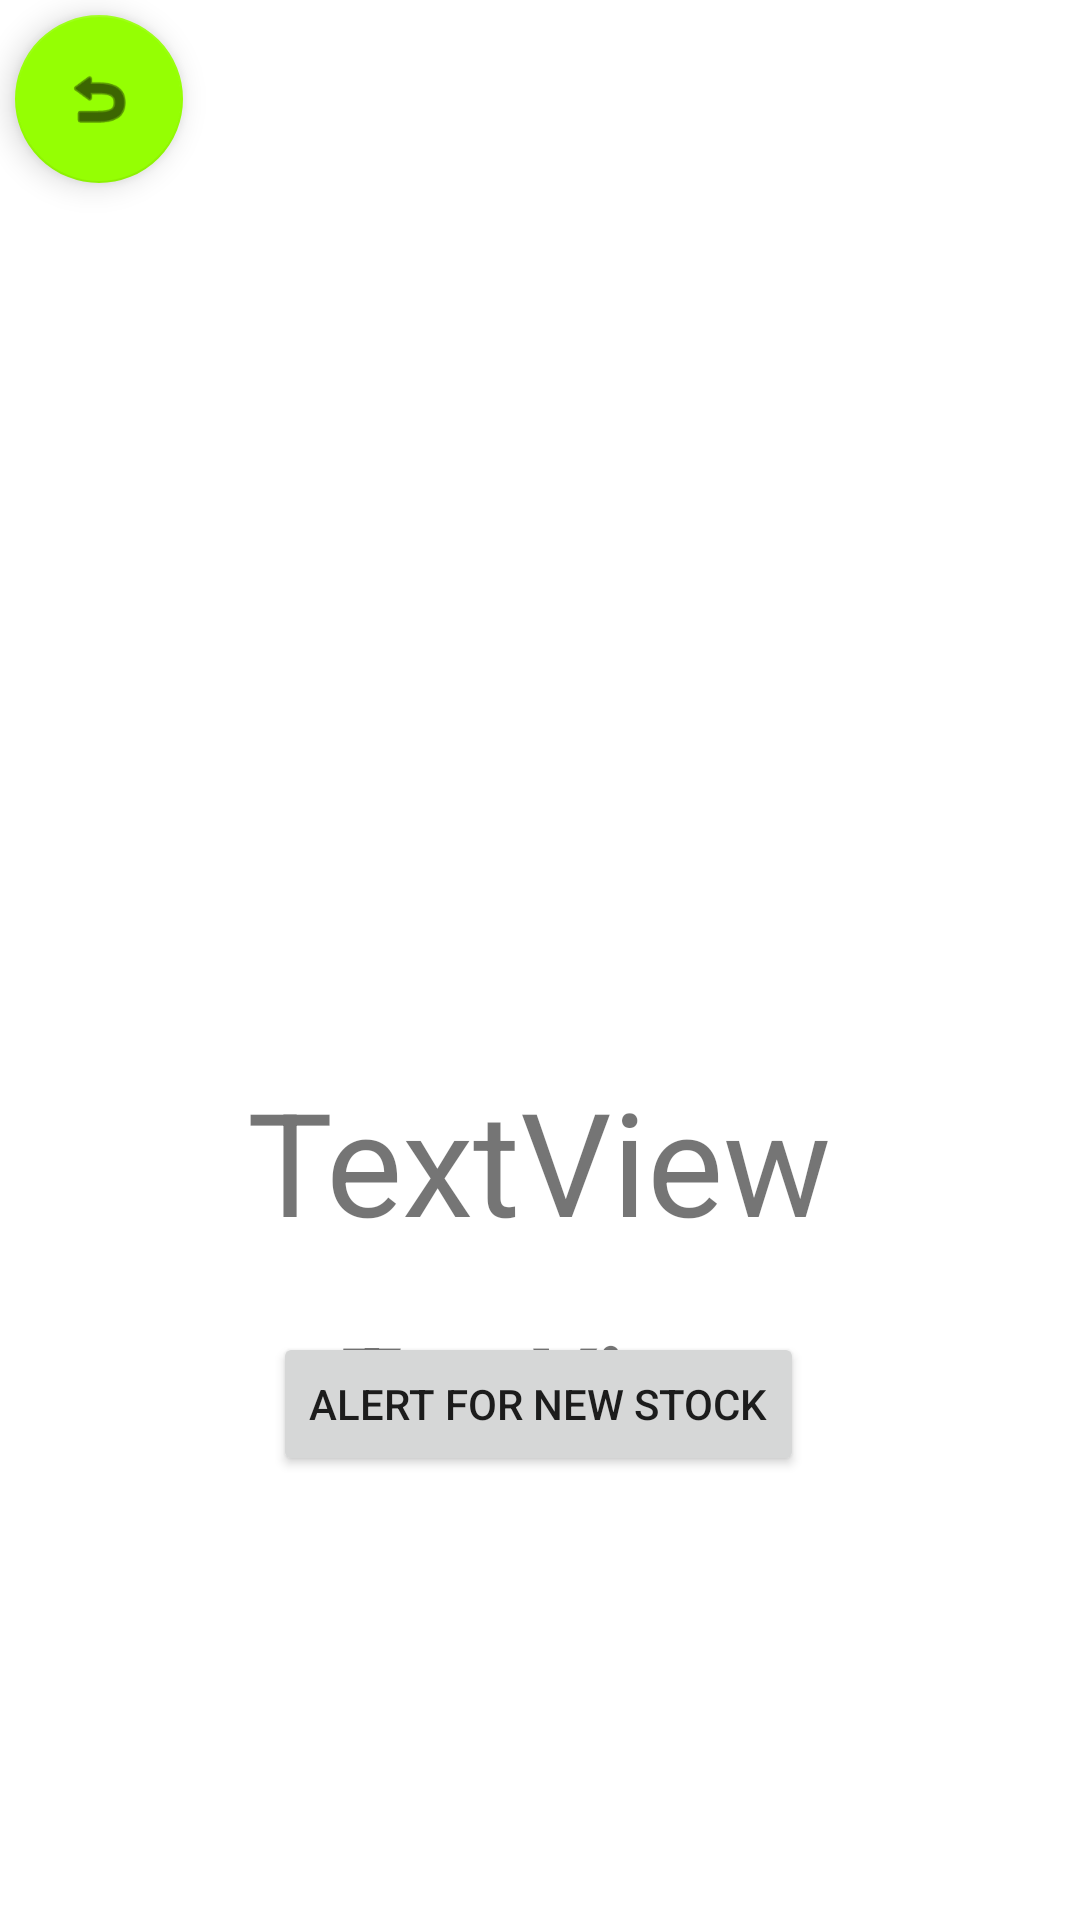

Point at icon controls on the screen. Image size 1080*1920, points as (x,y).
revert: (99,99)
